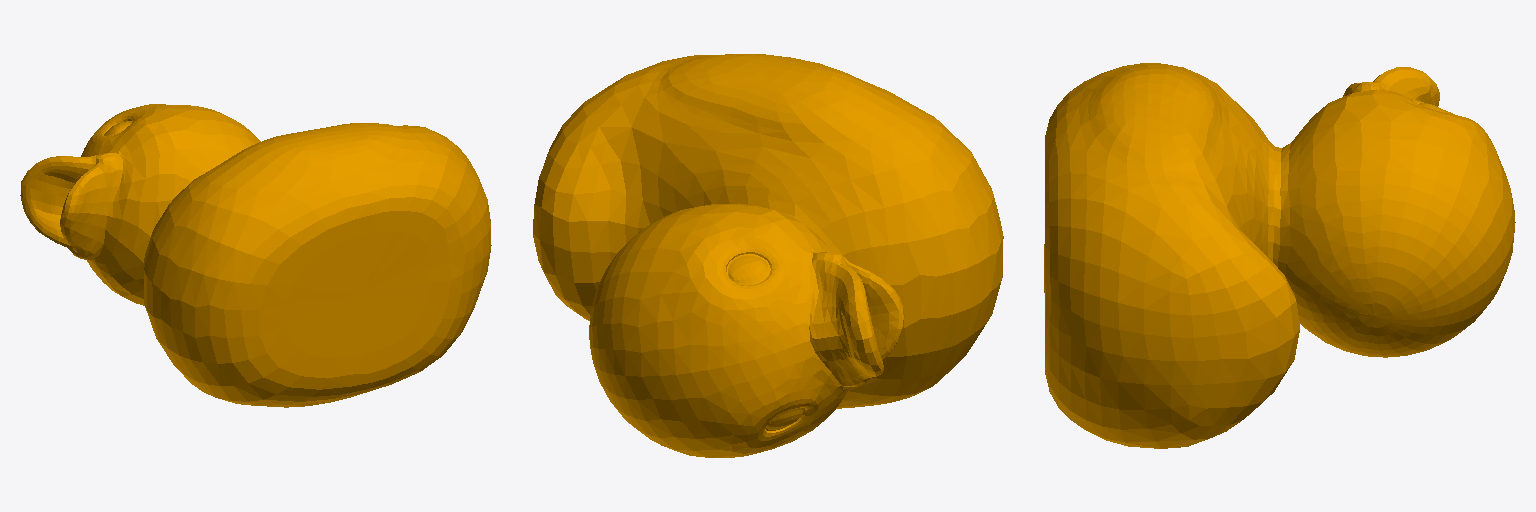
robot.urdf — bullet_duck:
<robot name="bullet_duck">
  <link name="base">
    <visual><geometry><mesh filename="bullet_duck.normalized.obj"/></geometry></visual>
    <collision><geometry><mesh filename="bullet_duck.collision_box.obj"/></geometry></collision>
  </link>
</robot>

--- Facts derived from the render (not from the file) ---
Views: 3 orthographic renders of the robot side by side, from view 1: azimuth 30°, elevation 25°; view 2: azimuth 150°, elevation 25°; view 3: azimuth 270°, elevation 25°.
Model bullet_duck with 1 links and 0 joints (none), rooted at base, posed every joint at zero.
Links seen in each view (by area): view 1: base; view 2: base; view 3: base.
Link boxes in pixels (bbox=[...]): base: bbox=[20, 104, 491, 407]; base: bbox=[533, 54, 1003, 457]; base: bbox=[1044, 63, 1515, 448].
Bounding box of the posed robot: 1 × 0.931 × 0.6979 m (x, y, z).
Meshes: 1 distinct files referenced, 1 mesh visuals loaded (1 OBJ).
